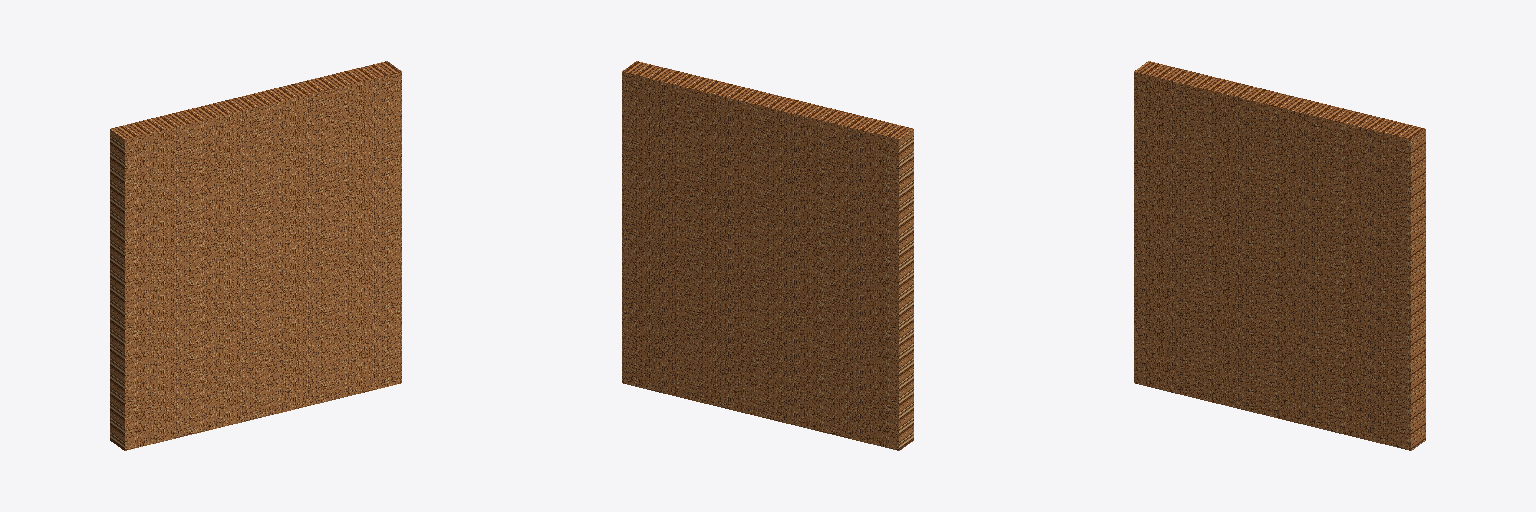
3 views of the same model, side by side, from view 1: azimuth 30°, elevation 25°; view 2: azimuth 150°, elevation 25°; view 3: azimuth 330°, elevation 25° (orthographic).
Parts seen in each view (by area): view 1: Plane; view 2: Plane; view 3: Plane.
Boxes of the visible parts, <box> form: Plane: <box>110,61,401,450</box>; Plane: <box>622,61,913,450</box>; Plane: <box>1134,61,1425,450</box>.
Size of the model in its own units: 1120 by 1200 by 104.
1 materials, 1 textured.